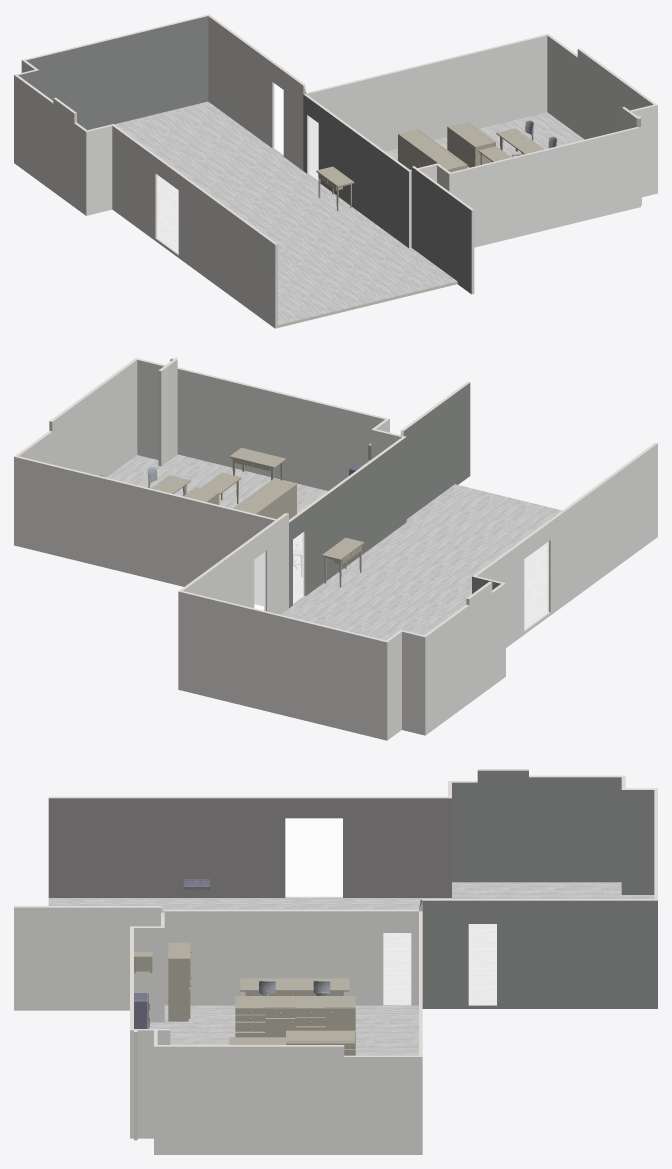
3 views of the same model, one above another, from view 1: azimuth 30°, elevation 25°; view 2: azimuth 150°, elevation 25°; view 3: azimuth 270°, elevation 25° (orthographic). The views are drawn at different scales.
Parts seen in each view (by area): view 1: floor_Kitchen, wall_58, wall_13, wall_56, wall_5, wall_12, wall_15, wall_14, wall_32, wall_34, wall_4, floor_Other (+17 smaller); view 2: floor_Kitchen, wall_18, wall_19, wall_46, wall_5, wall_15, wall_14, wall_32, wall_34, wall_12, floor_Other, wall_17 (+17 smaller); view 3: wall_30, wall_6, wall_44, wall_48, wall_50, wall_7, floor_Kitchen, floor_Other, storage_cabinet_mid40, door_1, door_4, wall_40 (+12 smaller).
Boxes of the visible parts, x1,y1,x2,y2 form: floor_Kitchen: (114,101,457,324); wall_58: (307,35,547,169); wall_13: (449,127,640,247); wall_56: (26,16,208,130); wall_5: (112,126,275,328); wall_12: (208,16,303,170); wall_15: (303,94,408,247); wall_14: (14,75,86,215); wall_32: (547,35,653,139); wall_34: (411,167,471,294); wall_4: (86,126,112,215); floor_Other: (308,112,584,180); floor_Kitchen: (281,484,561,640); wall_18: (178,591,387,740); wall_19: (14,457,274,605); wall_46: (177,369,384,490); wall_5: (477,443,657,647); wall_15: (289,437,406,607); wall_14: (425,582,505,735); wall_32: (19,360,137,477); wall_34: (403,383,470,518); wall_12: (183,513,288,614); floor_Other: (107,454,327,603); wall_17: (402,631,425,735); wall_30: (48,798,451,897); wall_6: (154,1046,422,1154); wall_44: (422,900,657,1008); wall_48: (452,770,621,882); wall_50: (164,911,418,1005); wall_7: (14,907,160,1010); floor_Kitchen: (48,882,654,1004); floor_Other: (147,1005,418,1055); storage_cabinet_mid40: (235,996,355,1055); door_1: (285,818,342,896); door_4: (285,818,342,896); wall_40: (621,790,654,894).
Size of the model in its own units: 17.01 by 3.37 by 17.1.
Materials: 62 (2 with a texture image).
